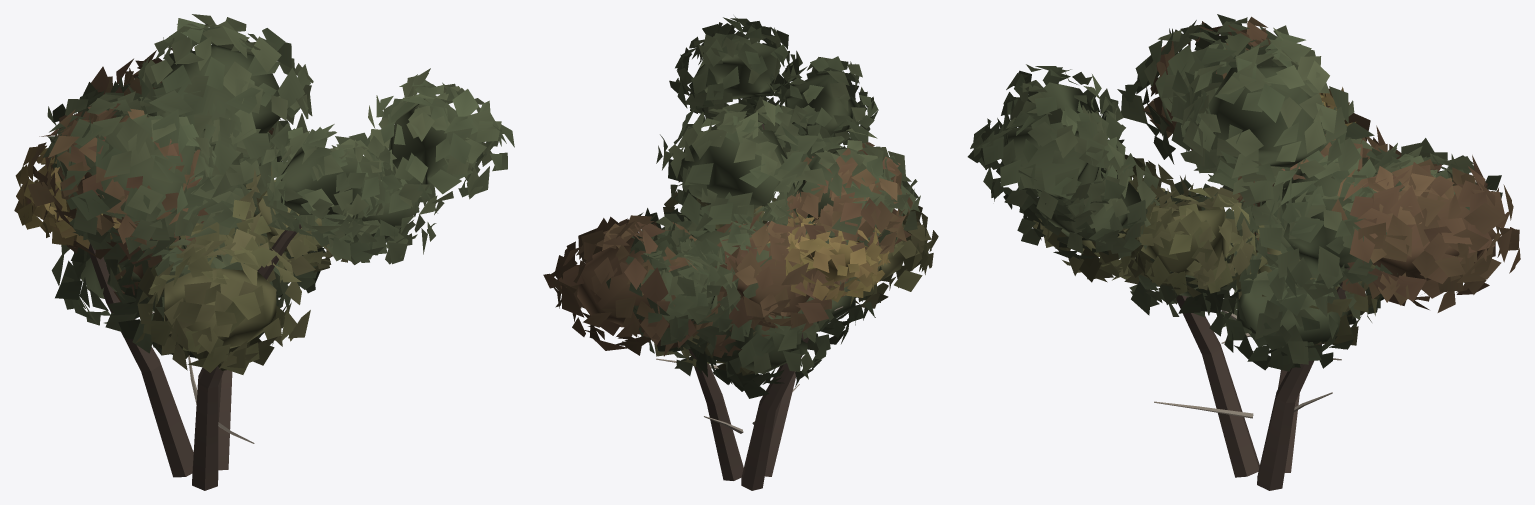
The model's file is nire_c.glb.
3 views of the same model, side by side, from view 1: azimuth 30°, elevation 25°; view 2: azimuth 150°, elevation 25°; view 3: azimuth 270°, elevation 25° (orthographic). The views are drawn at different scales.
Parts seen in each view (by area): view 1: NireCHojas, NireCCopa, NireC; view 2: NireCHojas, NireCCopa, NireC; view 3: NireCHojas, NireCCopa, NireC.
Part boxes in pixels (x1,y1,x2,y2): NireCHojas: (14,14,514,374); NireCCopa: (44,44,483,348); NireC: (87,215,301,490); NireCHojas: (543,16,938,398); NireCCopa: (577,35,905,373); NireC: (656,122,842,490); NireCHojas: (967,14,1520,371); NireCCopa: (1006,43,1495,344); NireC: (1105,168,1349,490).
Size of what is drawn, in the model's own units: 3.66 by 4.31 by 4.86.
